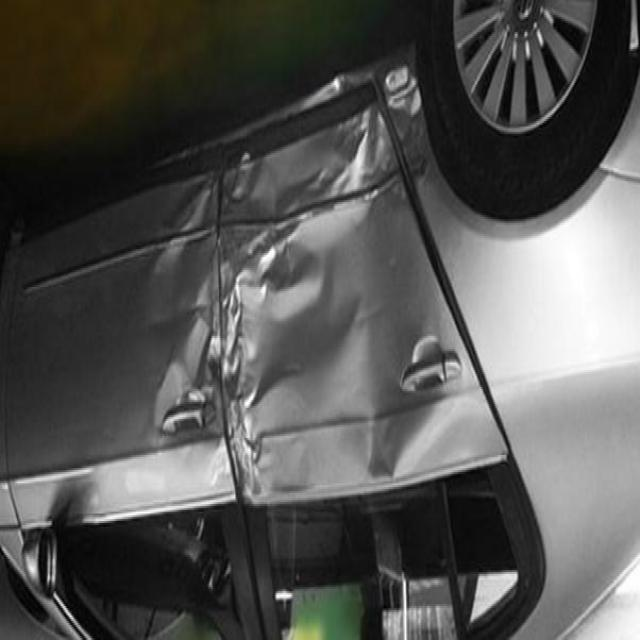dent: (178, 37, 418, 520)
